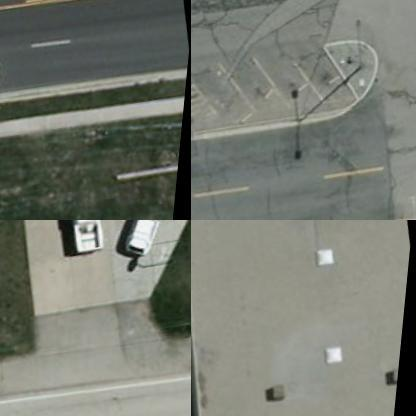car: (109, 220, 179, 265)
pickup: (66, 220, 112, 257)
